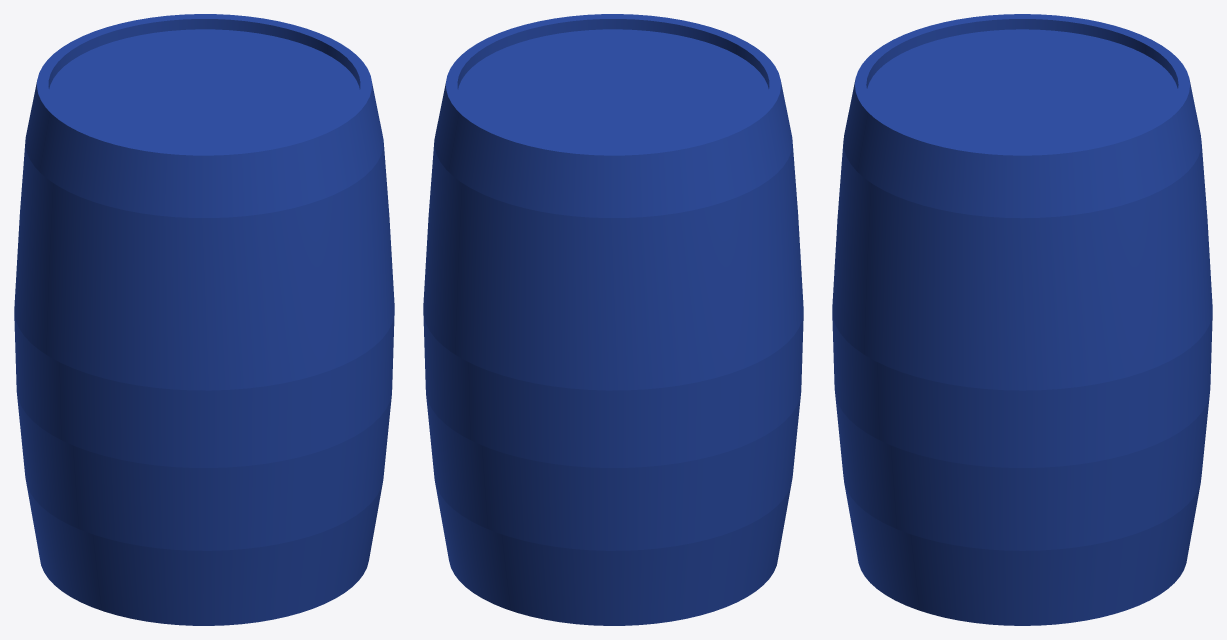
3 renders of one model, left to right at view 1: azimuth 30°, elevation 25°; view 2: azimuth 150°, elevation 25°; view 3: azimuth 270°, elevation 25°, orthographic.
Parts seen in each view (by area): view 1: barrel; view 2: barrel; view 3: barrel.
Part boxes in pixels (bbox=[...]): barrel: bbox=[14, 14, 394, 625]; barrel: bbox=[423, 14, 803, 625]; barrel: bbox=[832, 14, 1212, 625].
Size of the model in its own units: 0.1317 by 0.18 by 0.1317.
